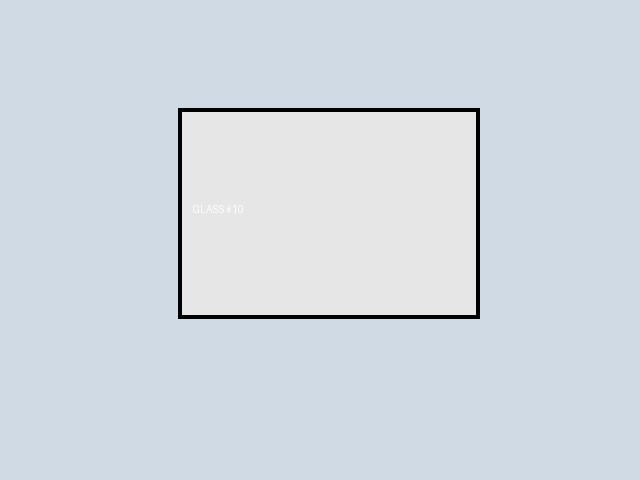water_glass: (178, 108, 479, 318)
